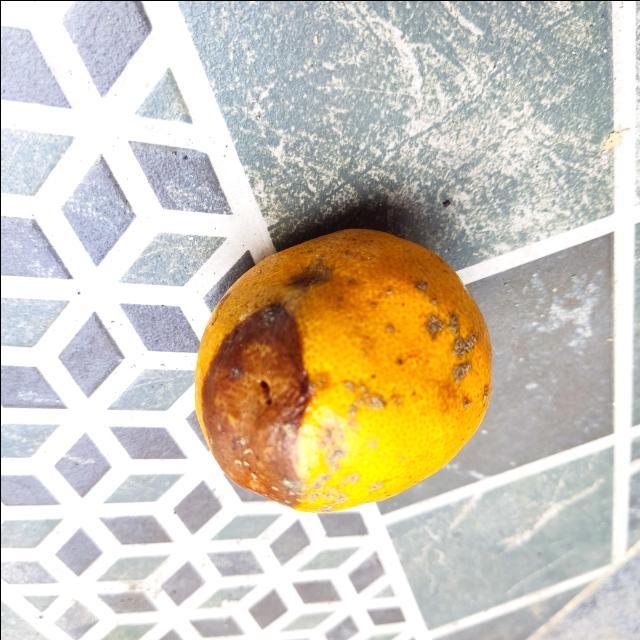agrume: (193, 225, 491, 513)
